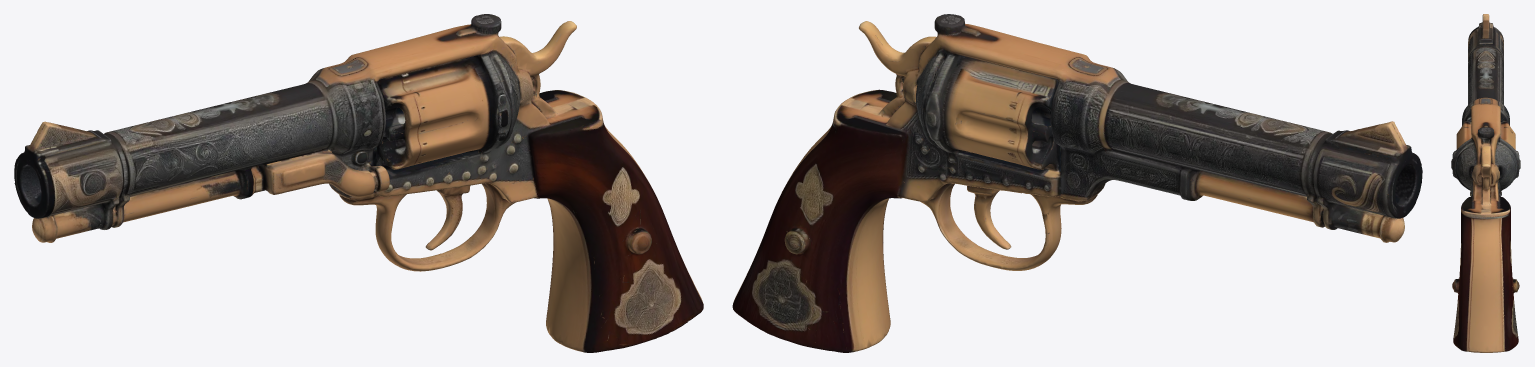
The model's file is mod3.glb.
3 views of the same model, side by side, from view 1: azimuth 30°, elevation 25°; view 2: azimuth 150°, elevation 25°; view 3: azimuth 270°, elevation 25° (orthographic). The views are drawn at different scales.
Parts seen in each view (by area): view 1: Mesh1.0; view 2: Mesh1.0; view 3: Mesh1.0.
Boxes of the visible parts, <box> form: Mesh1.0: <box>14,14,703,352</box>; Mesh1.0: <box>732,14,1422,352</box>; Mesh1.0: <box>1451,14,1520,352</box>.
Bounding box in the file's own units: 2.01 × 0.9949 × 0.3439.
Materials: 1 (1 with a texture image).
